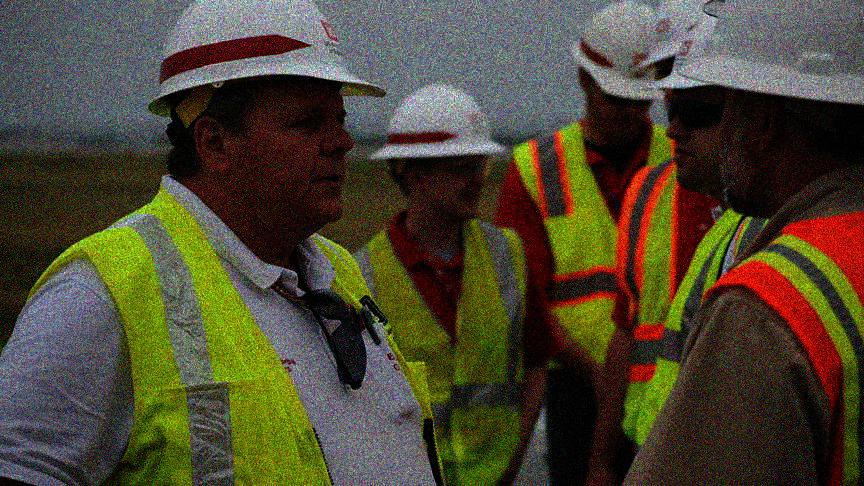helmet: (141, 1, 387, 244), (677, 5, 864, 219), (366, 81, 507, 221), (641, 6, 743, 191), (567, 2, 673, 140)
